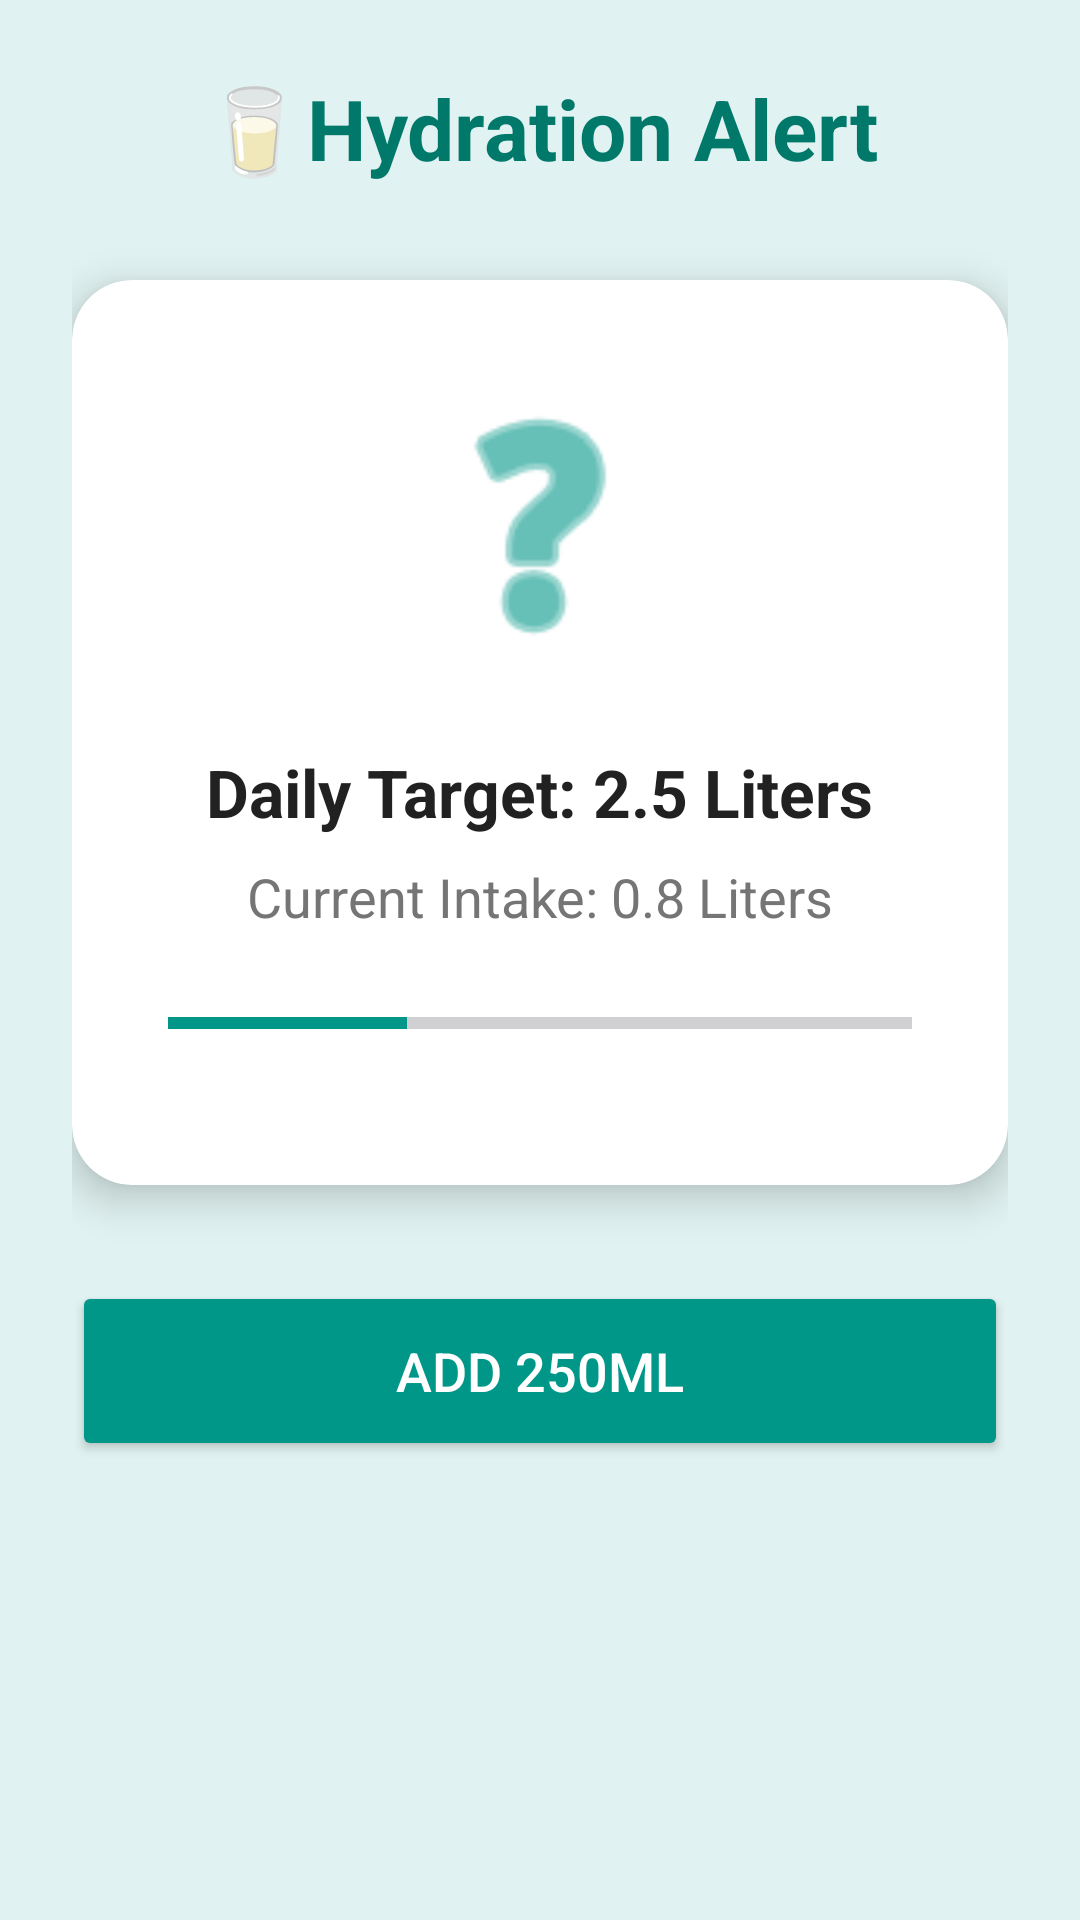

Where icons sit on this 1080w x 1920h app screen, as (x1=x1, y1=y1, x2=x2, y2=y2):
help: (x1=474, y1=418, x2=606, y2=634)
